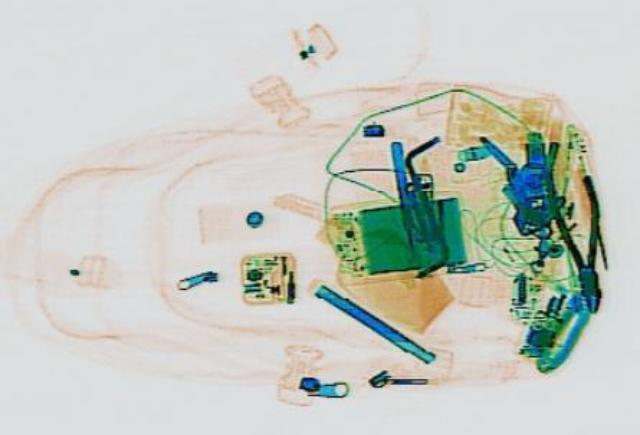Pliers: (533, 136, 617, 313)
